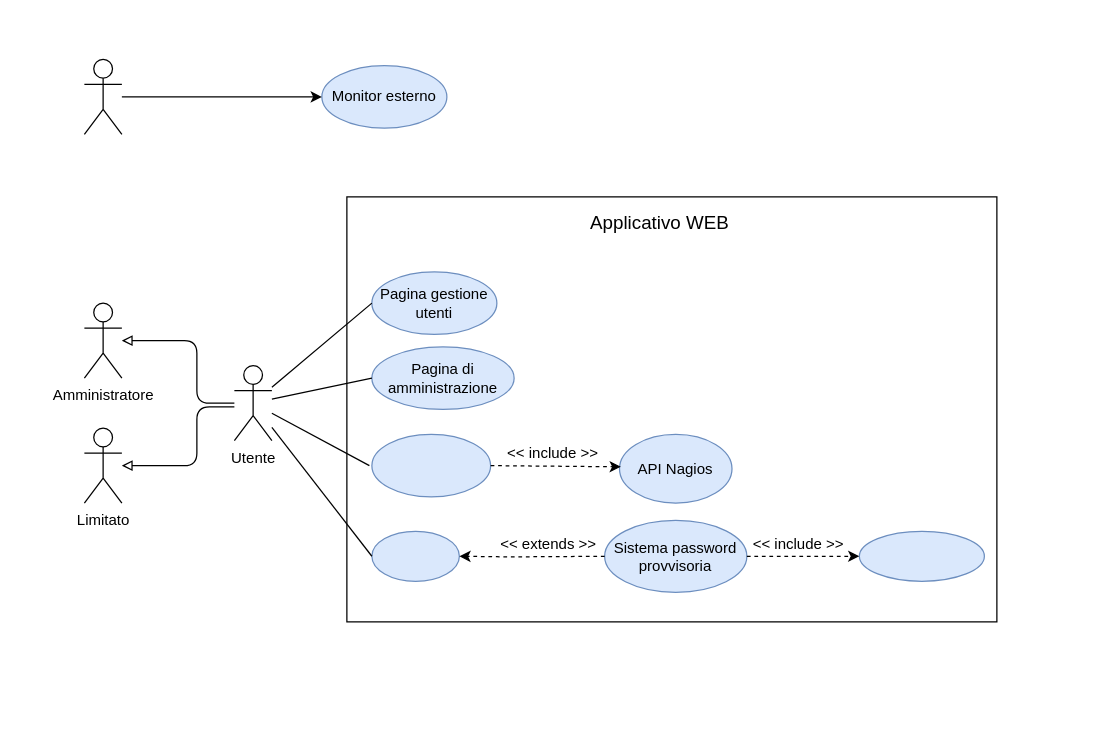
The diagram is 1106 pixels wide and 744 high, and some of its shapes have lost their labels. Each missing label, with the centre of its shape:
Login: [415,555]
Pagina di visualizzazione: [431,465]
Raspberry PI: [102,96]
Sistema email: [921,555]
